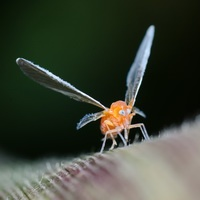insect: (16, 25, 154, 152)
